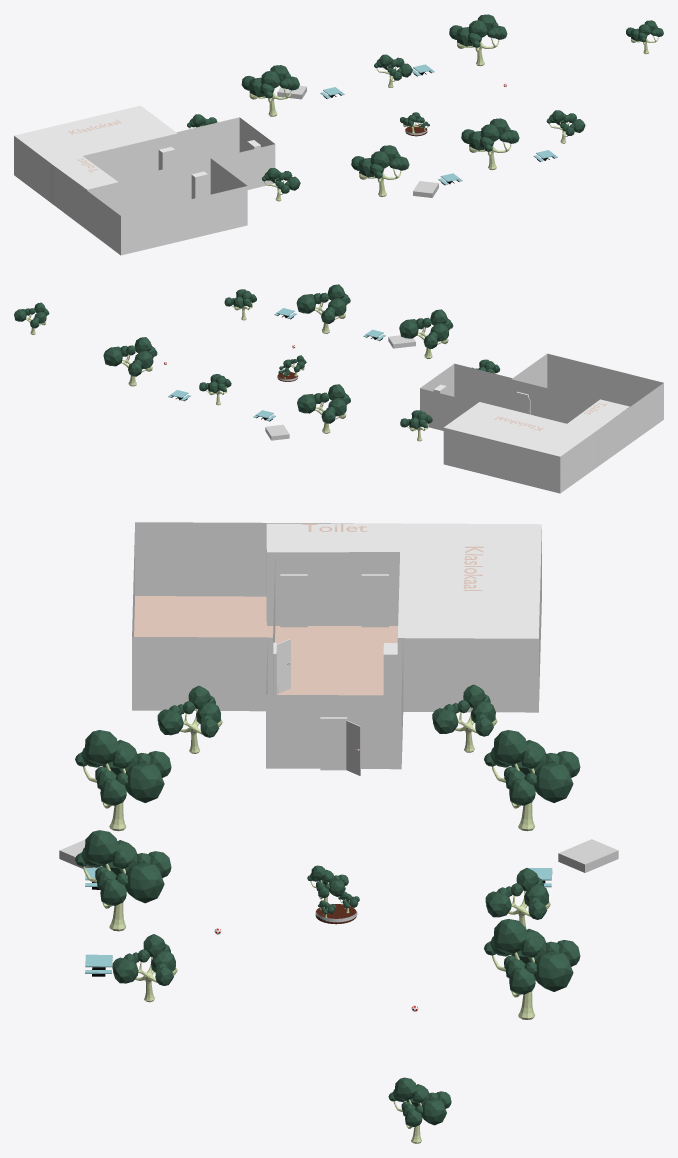
File: StadV2.glb
3 renders of one model, top to bottom at view 1: azimuth 30°, elevation 25°; view 2: azimuth 150°, elevation 25°; view 3: azimuth 270°, elevation 25°, orthographic. The views are drawn at different scales.
Parts seen in each view (by area): view 1: Class, Room, Ceiling.001, Class.001, Ceiling, Leaves.007, Leaves.001, Leaves.004, Leaves.003, Toilet.001, Leaves.005, Leaves.002 (+3 smaller); view 2: Room, Ceiling.001, Class, Class.001, Leaves.007, Leaves.004, Leaves.001, Leaves.003, Ceiling, Leaves, Leaves.008, Leaves.002 (+2 smaller); view 3: Room, Ceiling.001, Floor, Toilet.001, Leaves.007, Leaves.001, Leaves.003, Leaves.004, Ceiling, Leaves, Leaves.008, Leaves.005 (+7 smaller).
Boxes of the visible parts, left/top/right/bottom form: Class: left=83, top=158, right=247, bottom=254; Room: left=54, top=117, right=275, bottom=249; Ceiling.001: left=14, top=105, right=177, bottom=163; Class.001: left=14, top=133, right=177, bottom=202; Ceiling: left=51, top=155, right=117, bottom=189; Leaves.007: left=461, top=118, right=519, bottom=151; Leaves.001: left=449, top=14, right=507, bottom=47; Leaves.004: left=351, top=145, right=409, bottom=178; Leaves.003: left=241, top=65, right=299, bottom=98; Toilet.001: left=50, top=163, right=118, bottom=213; Leaves.005: left=374, top=54, right=412, bottom=80; Leaves.002: left=546, top=110, right=585, bottom=135; Room: left=420, top=353, right=663, bottom=492; Ceiling.001: left=444, top=402, right=595, bottom=456; Class: left=511, top=354, right=663, bottom=444; Class.001: left=444, top=430, right=595, bottom=492; Leaves.007: left=296, top=284, right=350, bottom=323; Leaves.004: left=399, top=309, right=453, bottom=348; Leaves.001: left=103, top=337, right=157, bottom=376; Leaves.003: left=297, top=384, right=350, bottom=423; Ceiling: left=567, top=399, right=629, bottom=430; Leaves: left=14, top=302, right=49, bottom=328; Leaves.008: left=400, top=410, right=432, bottom=429; Leaves.002: left=224, top=289, right=256, bottom=308; Room: left=132, top=522, right=541, bottom=768; Ceiling.001: left=398, top=523, right=541, bottom=638; Floor: left=134, top=596, right=397, bottom=695; Toilet.001: left=266, top=549, right=399, bottom=625; Leaves.007: left=75, top=830, right=171, bottom=905; Leaves.001: left=484, top=919, right=580, bottom=994; Leaves.003: left=484, top=730, right=580, bottom=805; Leaves.004: left=75, top=730, right=171, bottom=805; Ceiling: left=266, top=523, right=402, bottom=552; Leaves: left=388, top=1077, right=451, bottom=1126; Leaves.008: left=432, top=684, right=495, bottom=736; Leaves.005: left=485, top=868, right=548, bottom=919.
Bounding box in the file's own units: 140 × 11.17 × 59.1.
